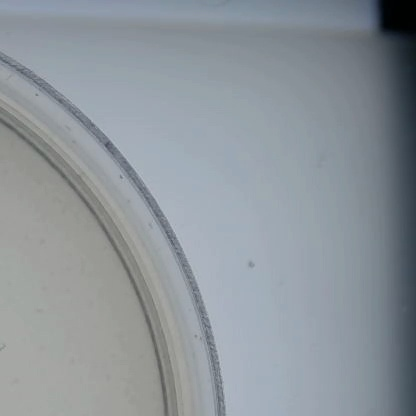worm: (0, 340, 9, 359)
